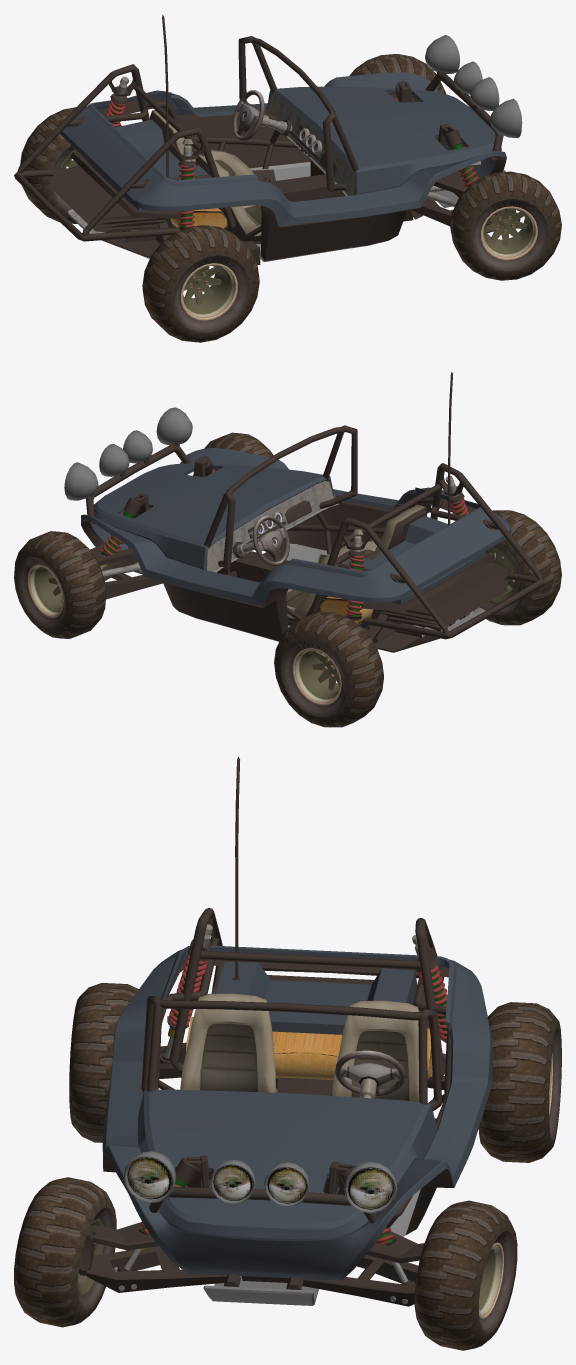
Rendered from bengbeng.glb.
3 views of the same model, one above another, from view 1: azimuth 30°, elevation 25°; view 2: azimuth 150°, elevation 25°; view 3: azimuth 270°, elevation 25° (orthographic). The views are drawn at different scales.
Visible parts, largest first — view 1: node_id378, node_id382, node_id332, node_id339, node_id320, node_id380, node_id328, node_id346, node_id335, node_id330, node_id337, node_id356 (+10 smaller); view 2: node_id378, node_id382, node_id346, node_id353, node_id332, node_id320, node_id380, node_id356, node_id342, node_id344, node_id313, node_id349 (+12 smaller); view 3: node_id378, node_id382, node_id313, node_id356, node_id346, node_id353, node_id339, node_id332, node_id322, node_id390, node_id320, node_id388 (+9 smaller).
Boxes of the visible parts, x1,y1,x2,y2 form: node_id378: [60, 72, 506, 226]; node_id382: [14, 36, 505, 264]; node_id332: [142, 225, 259, 342]; node_id339: [450, 171, 561, 280]; node_id320: [425, 35, 521, 138]; node_id380: [67, 94, 480, 233]; node_id328: [180, 263, 237, 320]; node_id346: [20, 107, 121, 223]; node_id335: [480, 206, 537, 260]; node_id330: [173, 255, 249, 332]; node_id337: [472, 199, 548, 271]; node_id356: [390, 81, 520, 233]; node_id378: [81, 447, 511, 606]; node_id382: [81, 425, 544, 652]; node_id346: [274, 612, 383, 727]; node_id353: [14, 531, 106, 638]; node_id332: [486, 510, 561, 625]; node_id320: [64, 407, 192, 500]; node_id380: [130, 481, 485, 631]; node_id356: [90, 456, 218, 599]; node_id342: [292, 648, 341, 705]; node_id344: [280, 640, 346, 716]; node_id313: [286, 504, 425, 618]; node_id349: [27, 564, 63, 617]; node_id378: [102, 945, 492, 1280]; node_id382: [103, 908, 492, 1289]; node_id313: [180, 993, 419, 1101]; node_id356: [78, 1155, 424, 1306]; node_id346: [478, 1002, 561, 1162]; node_id353: [414, 1200, 517, 1350]; node_id339: [14, 1177, 116, 1327]; node_id332: [69, 983, 138, 1142]; node_id322: [127, 1157, 393, 1209]; node_id390: [186, 1017, 432, 1080]; node_id320: [123, 1151, 397, 1213]; node_id388: [203, 1276, 318, 1305].
Size of the model in its own units: 0.7232 by 0.4371 by 0.5645.
37 materials, 37 textured.
